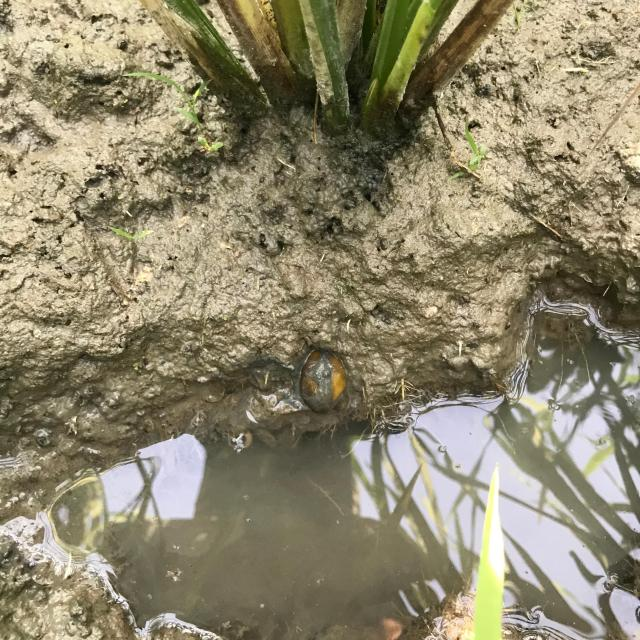rice bug -hama padi-: (288, 321, 362, 425)
